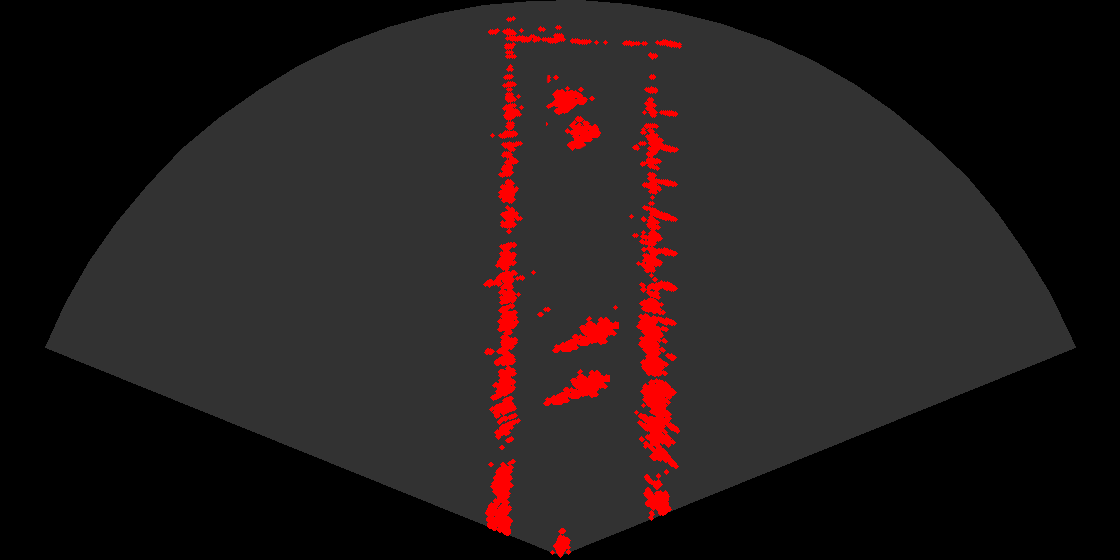cage: (546, 75, 609, 159)
frogman: (542, 363, 610, 410), (551, 310, 619, 357)
